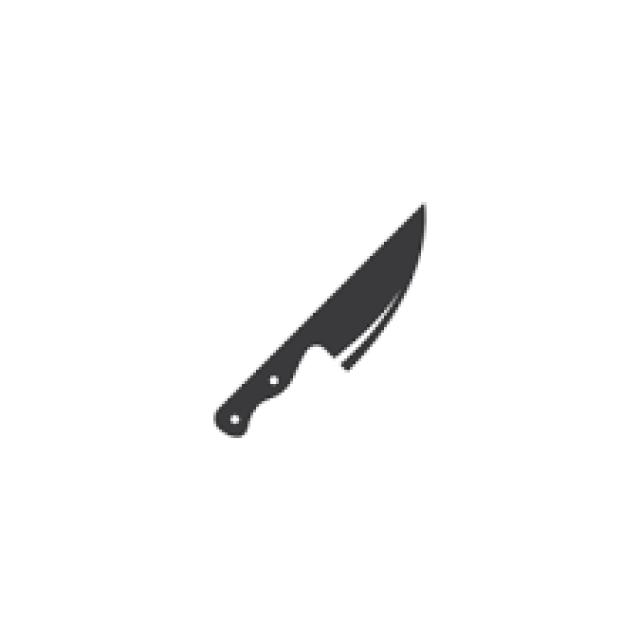Knife: (213, 199, 427, 435)
